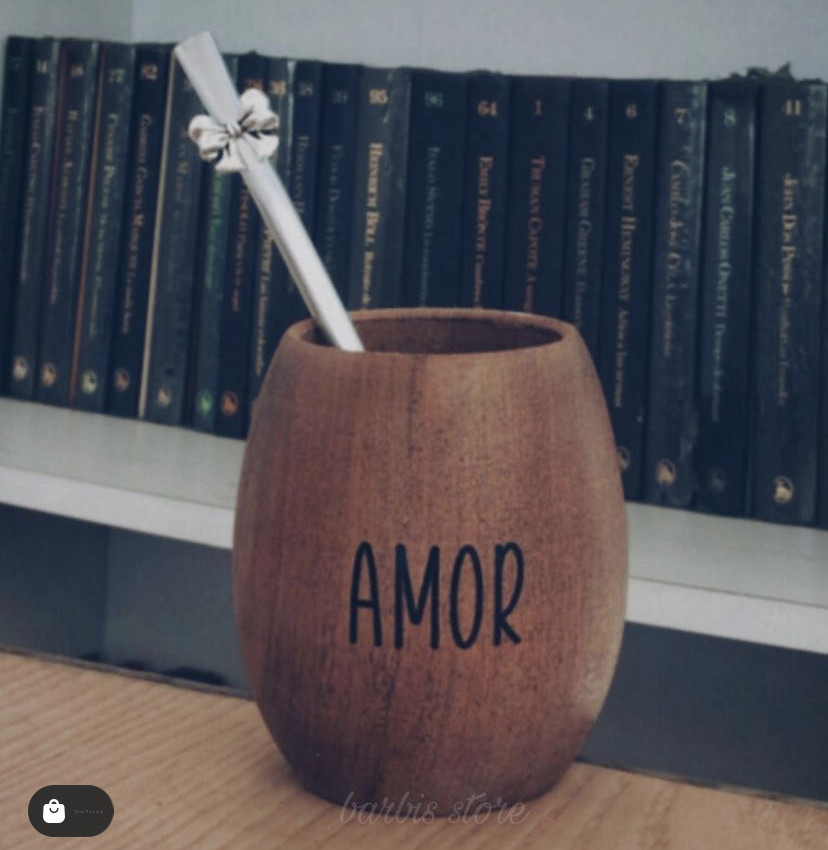madera: (217, 291, 633, 823)
mate: (162, 20, 639, 824)
